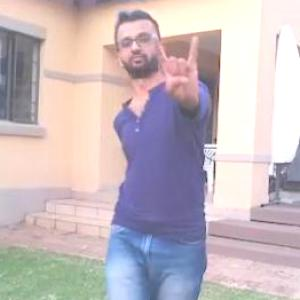takeoff-hand: (144, 24, 206, 112)
